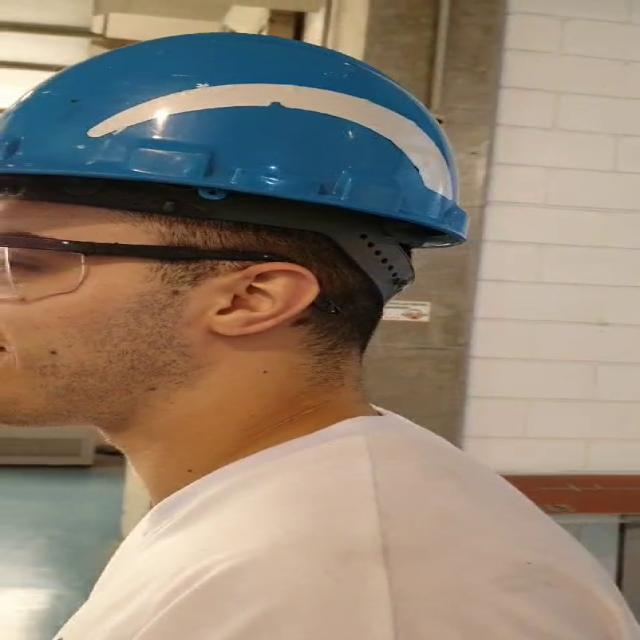oculos-epi: (0, 234, 280, 299), (316, 296, 345, 314)
